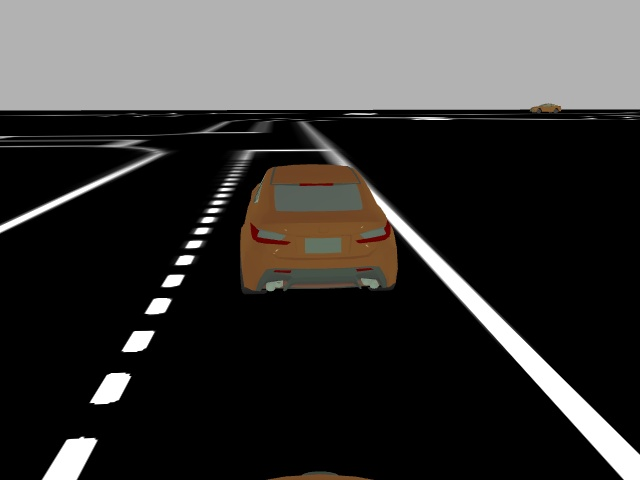obstacle_car: (235, 161, 403, 299)
